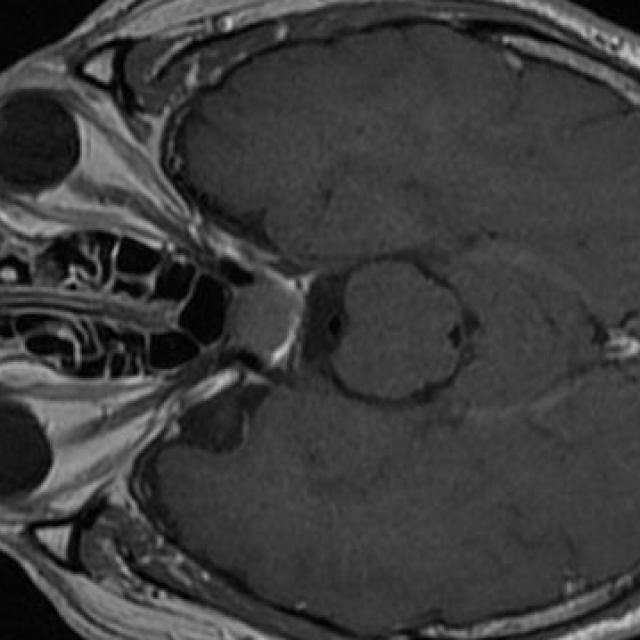pituitary: (226, 278, 305, 364)
